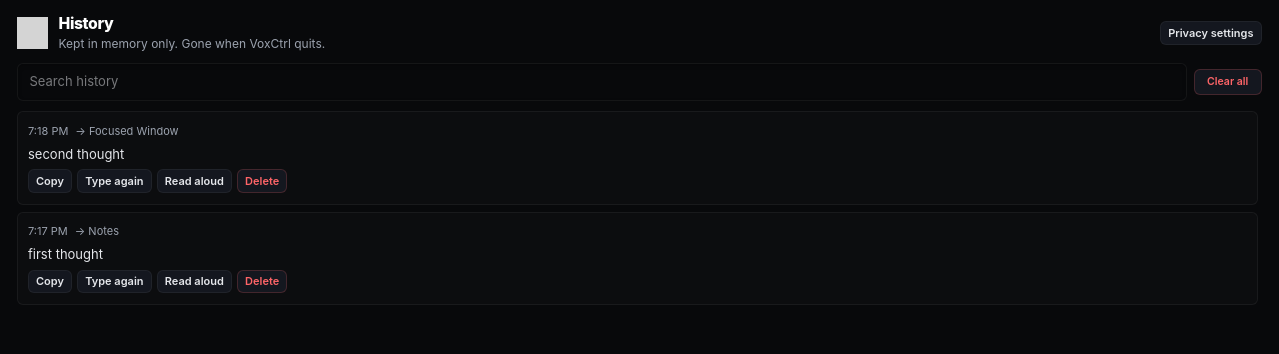
Test case: HistoryWindow › Read aloud › a failure is shown and the button comes back
This screenshot has width=1279, height=354.
Expected: the text "second thought" is shown, [28,146,124,162]
Click the button "Read aloud" below "7:18 PM" at (194, 181), box [157,169,232,193]
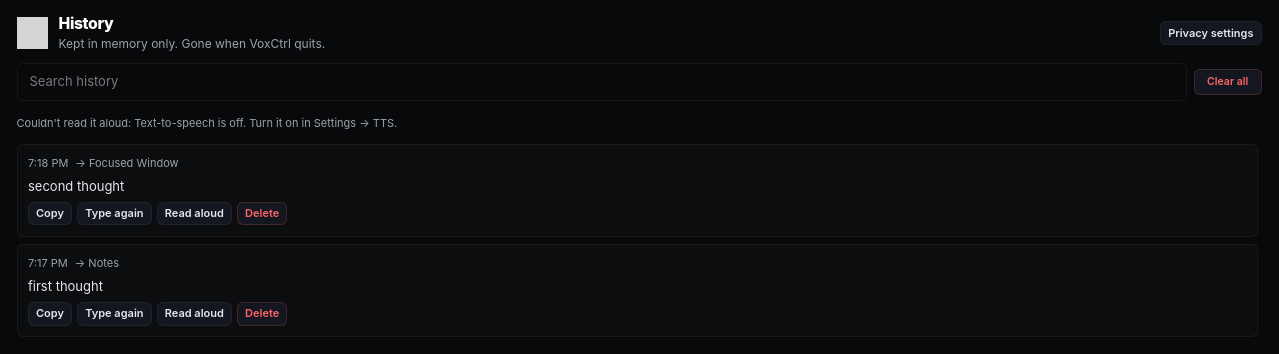
Expected: the number of buttons "Read aloud" is 2, [157,202,232,226]; [157,302,232,326]
Expected: the text "Couldn't read it aloud: Text-to-speech is off. Turn it on in Settings → TTS." is shown, [16,116,397,130]
